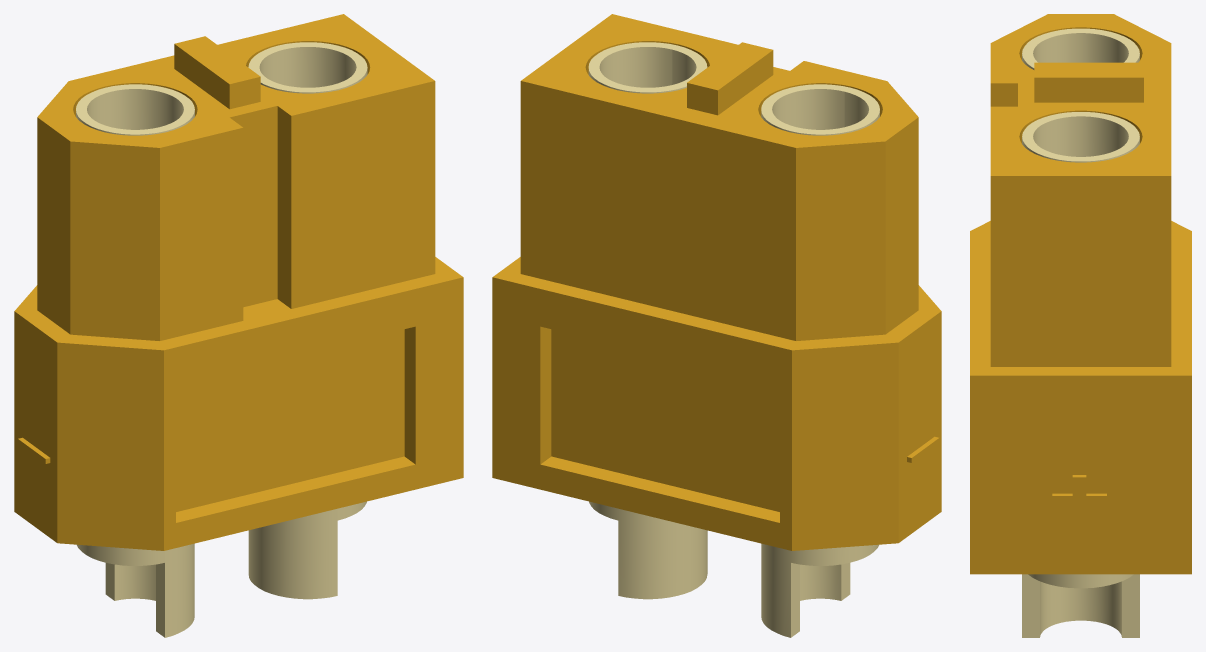
The picture shows the model from 3 angles, left to right: view 1: azimuth 30°, elevation 25°; view 2: azimuth 150°, elevation 25°; view 3: azimuth 270°, elevation 25°; orthographic projection.
Bounding box in the file's own units: 15.9 × 21.2 × 8.1.
